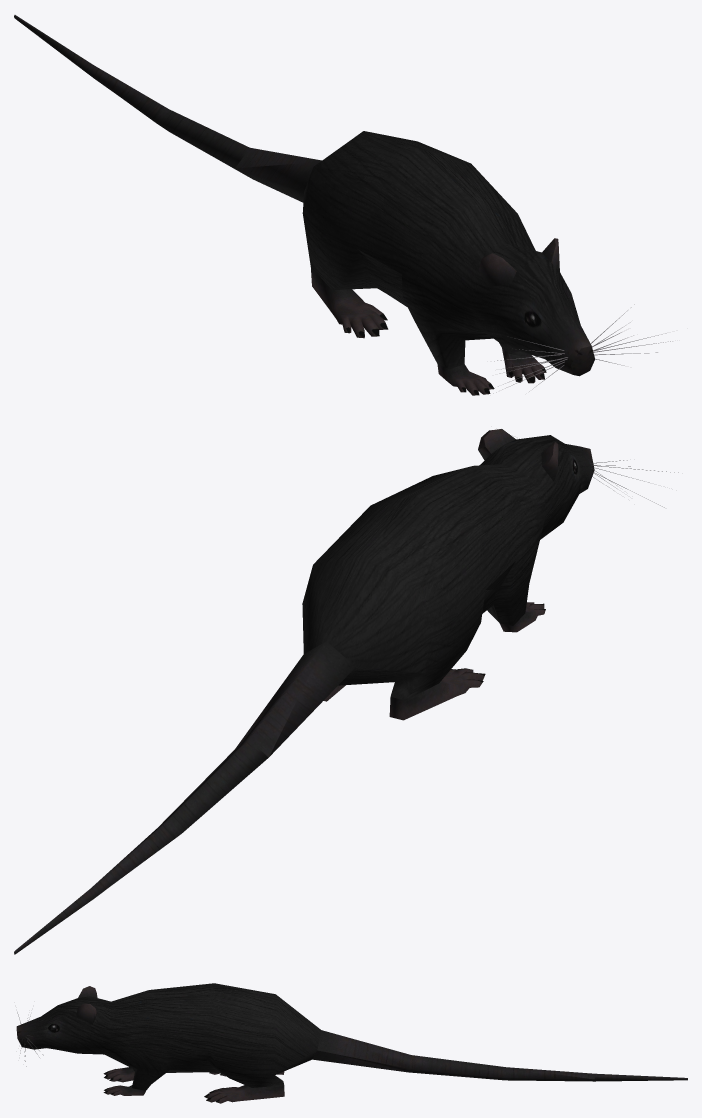
The model's file is Rat.gltf.
3 views of the same model, one above another, from view 1: azimuth 30°, elevation 25°; view 2: azimuth 150°, elevation 25°; view 3: azimuth 270°, elevation 25° (orthographic). The views are drawn at different scales.
Parts seen in each view (by area): view 1: Mesh_0118, Mesh_0119, Mesh_0120; view 2: Mesh_0118, Mesh_0119; view 3: Mesh_0118, Mesh_0119.
Boxes of the visible parts, <box> form: Mesh_0118: <box>302,131,595,395</box>; Mesh_0119: <box>14,15,321,202</box>; Mesh_0120: <box>493,304,672,393</box>; Mesh_0118: <box>302,429,594,720</box>; Mesh_0119: <box>14,641,355,954</box>; Mesh_0118: <box>16,983,321,1103</box>; Mesh_0119: <box>312,1030,687,1081</box>.
Size of the model in its own units: 0.2239 by 0.1868 by 1.11.
1 material, 1 textured.
